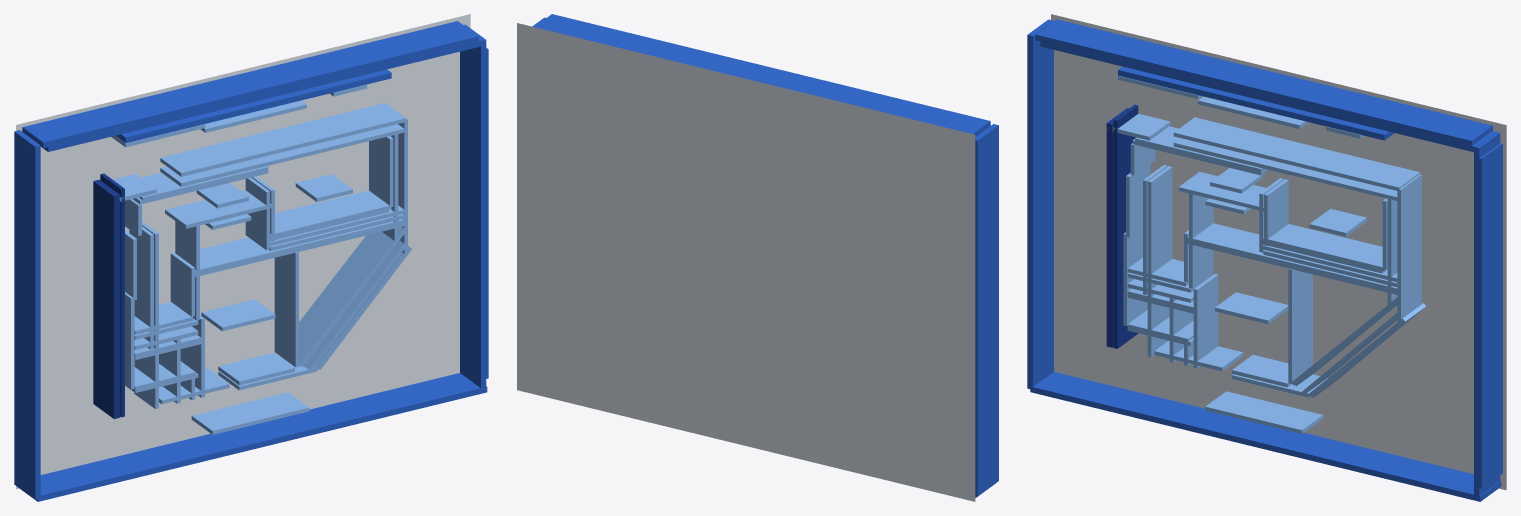
The model's file is 25353e11-ee97-4c33-83af-9ed720e46dbd.obj.
3 renders of one model, left to right at view 1: azimuth 30°, elevation 25°; view 2: azimuth 150°, elevation 25°; view 3: azimuth 330°, elevation 25°, orthographic.
Bounding box in the file's own units: 37.77 × 28.8 × 3.05.
